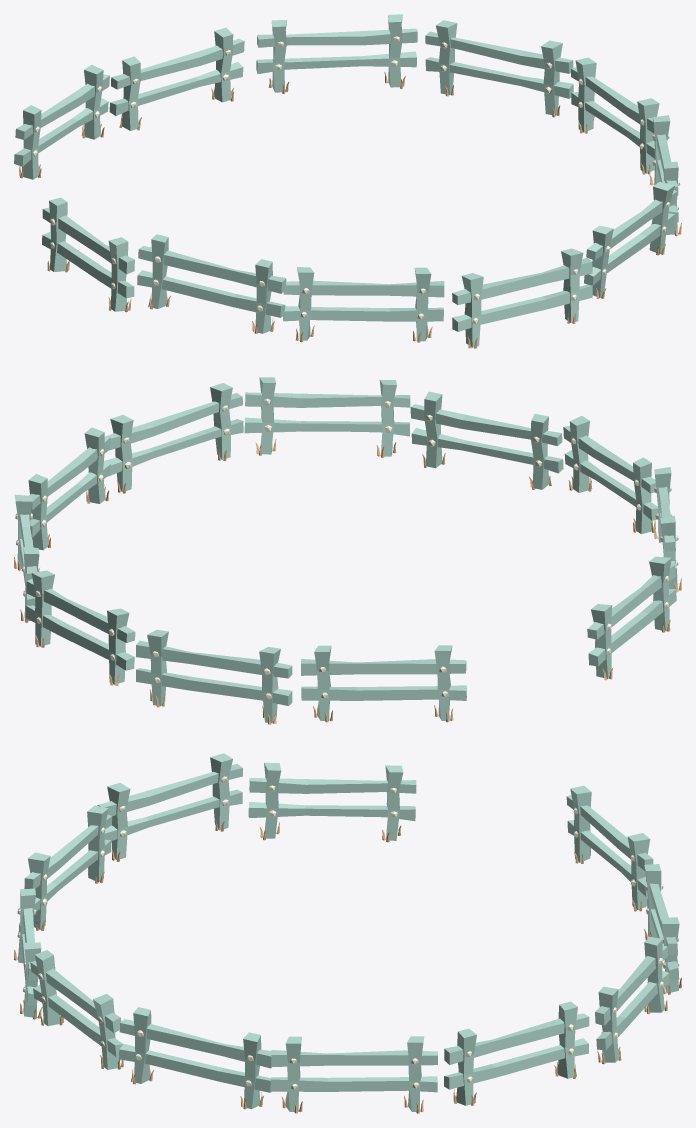
Rendered from fence-green.gltf.
The picture shows the model from 3 angles, top to bottom: view 1: azimuth 30°, elevation 25°; view 2: azimuth 150°, elevation 25°; view 3: azimuth 270°, elevation 25°; orthographic projection. The views are drawn at different scales.
Visible parts, largest first — view 1: Cube.012, Cube.013, Cube.016, Cube.010, Cube.002, Cube.007, Cube.014, Cube.015, Cube.008, Cube.001, Cube.009; view 2: Cube.015, Cube.007, Cube.008, Cube.010, Cube.009, Cube.016, Cube.014, Cube.012, Cube.001, Cube.002, Cube.013; view 3: Cube.001, Cube.009, Cube.002, Cube.014, Cube.013, Cube.008, Cube.016, Cube.015, Cube.012, Cube.007, Cube.010.
Boxes of the visible parts, x1,y1,x2,y2 form: Cube.012: (283,267,444,342); Cube.013: (137,234,286,333); Cube.016: (256,14,417,93); Cube.010: (452,248,592,348); Cube.002: (425,20,573,117); Cube.007: (109,27,244,130); Cube.014: (42,197,134,312); Cube.015: (14,64,109,179); Cube.008: (584,182,676,298); Cube.001: (571,57,659,174); Cube.009: (649,115,681,236); Cube.015: (301,645,466,722); Cube.007: (136,629,292,724); Cube.008: (244,377,410,457); Cube.010: (410,391,563,489); Cube.009: (104,383,243,493); Cube.016: (25,570,135,685); Cube.014: (587,556,676,680); Cube.012: (563,416,658,534); Cube.001: (28,427,110,550); Cube.002: (14,494,40,622); Cube.013: (653,467,681,592); Cube.001: (271,1036,437,1113); Cube.009: (119,1007,271,1109); Cube.002: (444,1001,589,1105); Cube.014: (248,762,416,842); Cube.013: (97,753,242,861); Cube.008: (30,950,123,1069); Cube.016: (595,936,669,1064); Cube.015: (566,785,653,911); Cube.012: (24,805,112,930); Cube.007: (644,864,681,994); Cube.010: (14,888,42,1019).
Bounding box in the file's own units: 11.36 × 1.8 × 11.31.
